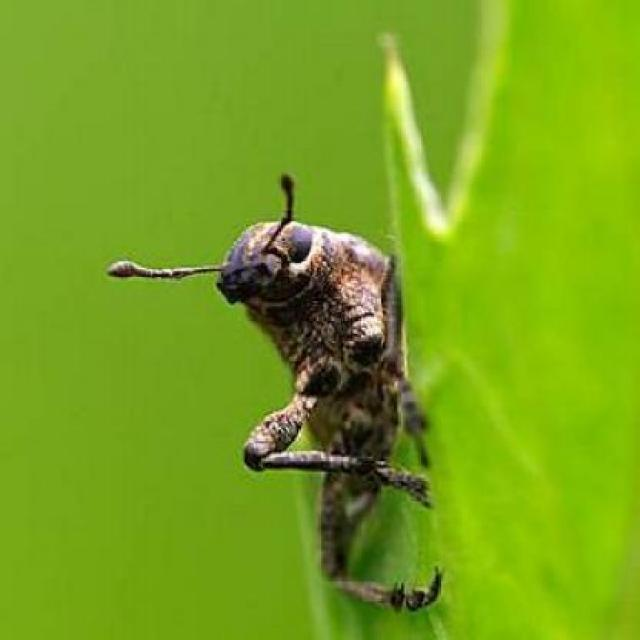rice-bug: (197, 206, 435, 608)
